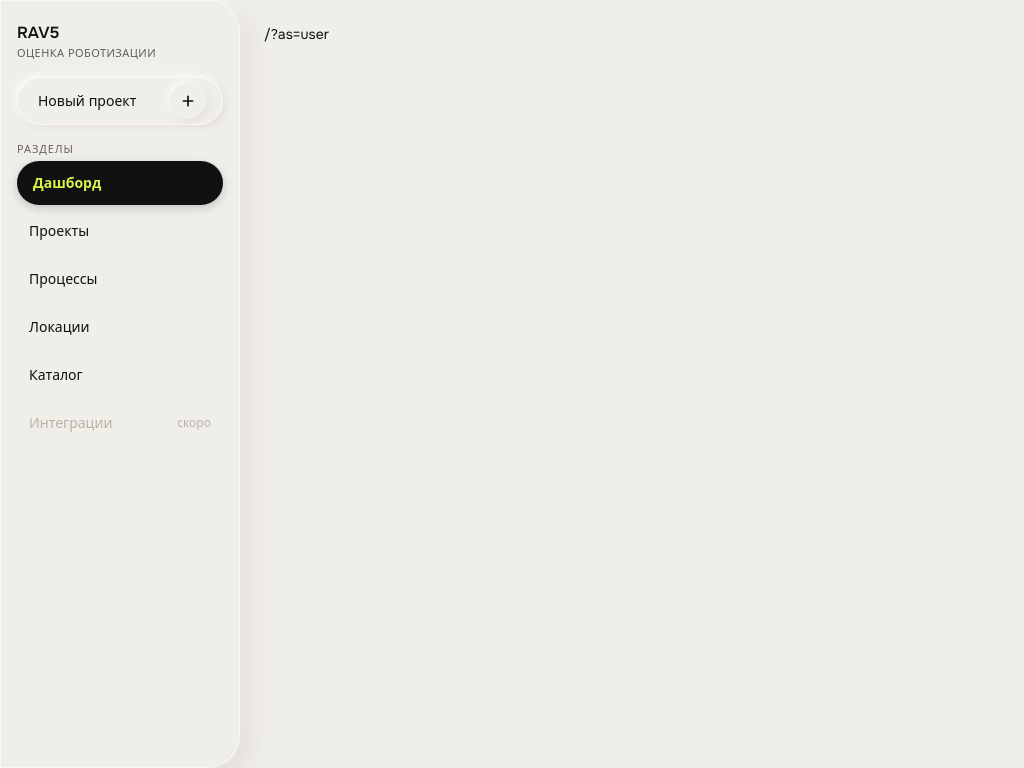
Test: NewProjectDialog (A2) › opens over the current page from the sidebar button, keeping its parameters
Click the link "Новый проект": (120, 101) [17,77,223,125]
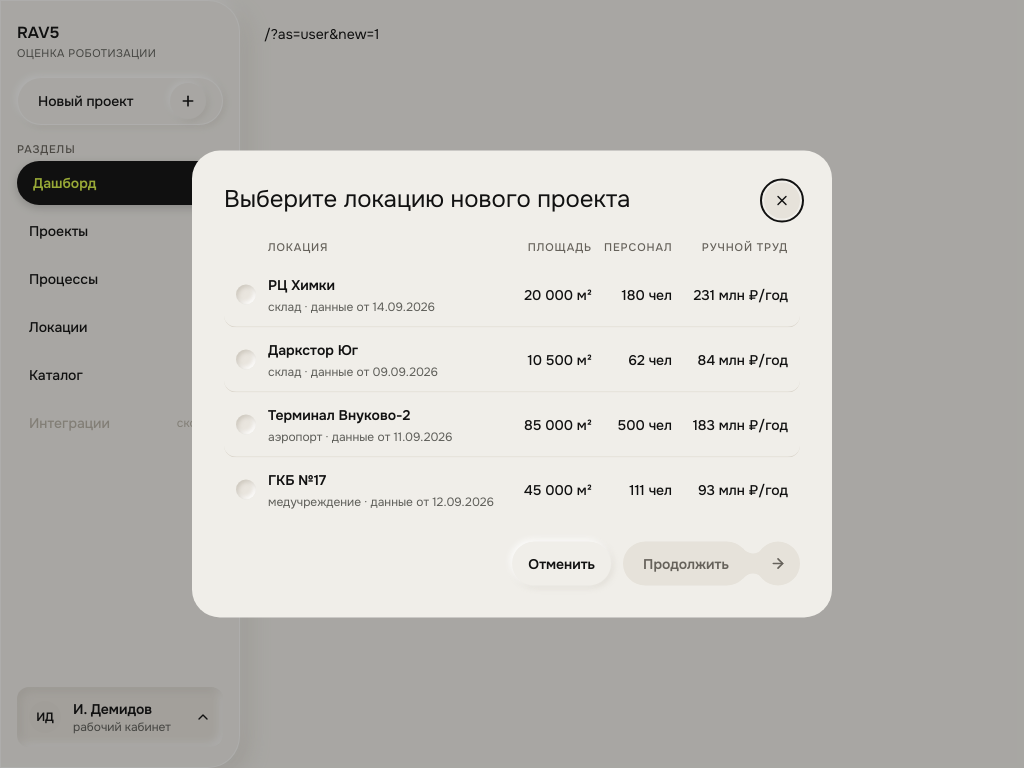
Expected: the dialog "Выберите локацию нового проекта" is shown, [192,150,832,618]
Expected: the text with test id "location" reads "/?as=user&new=1", [264,25,379,43]
